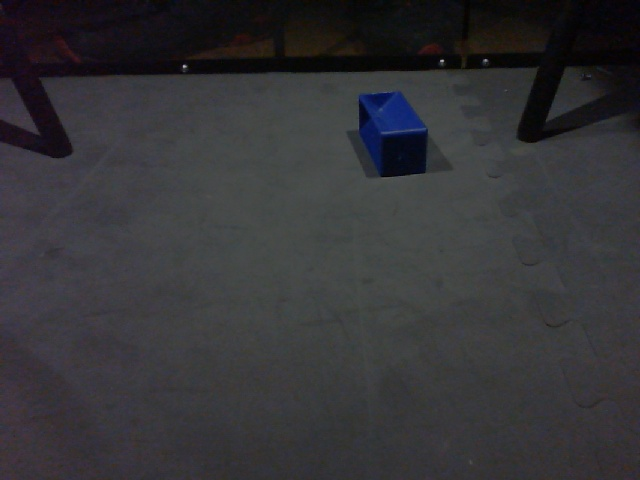BlueSample: (353, 85, 436, 177)
